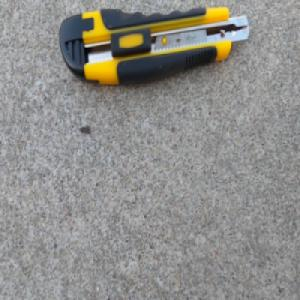Cutter: (58, 5, 250, 88)
